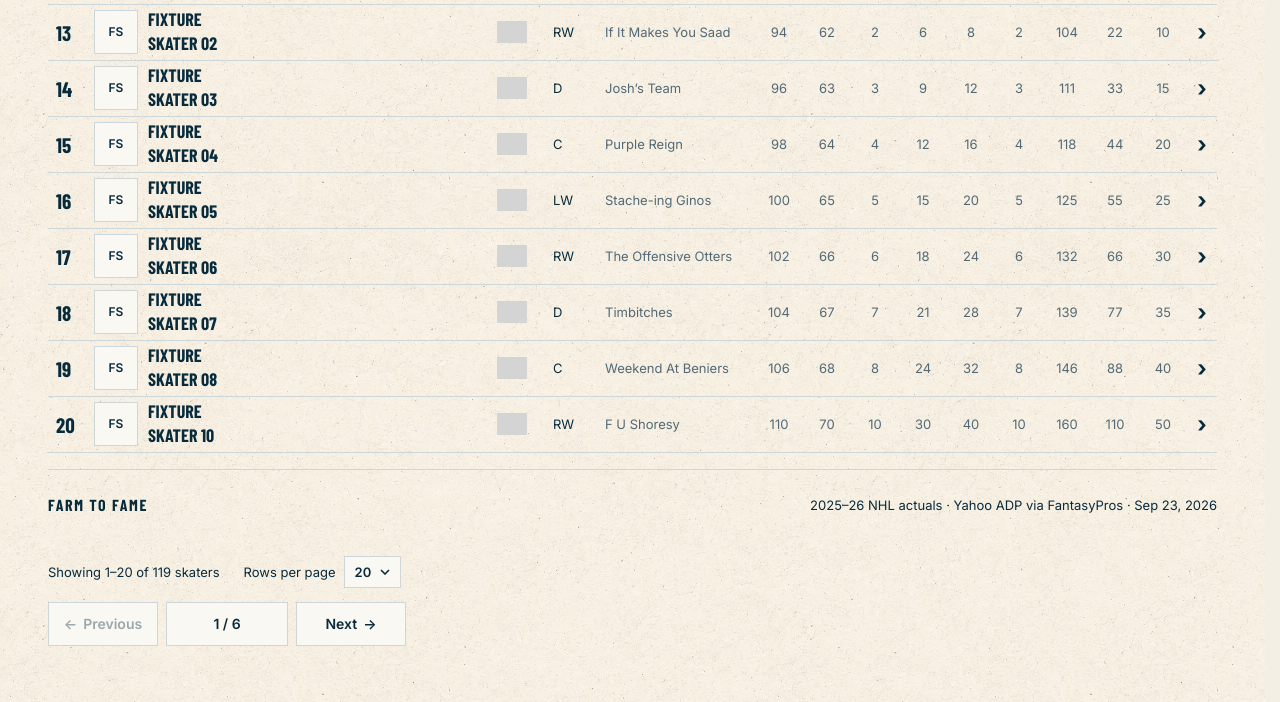
Available Players page › paginates and disables unavailable actions
(page scrolled)
Expected: the button "← Previous" is disabled, x1=48 y1=602 x2=158 y2=646
Click the button "Next →": (351, 624) x1=296 y1=602 x2=406 y2=646
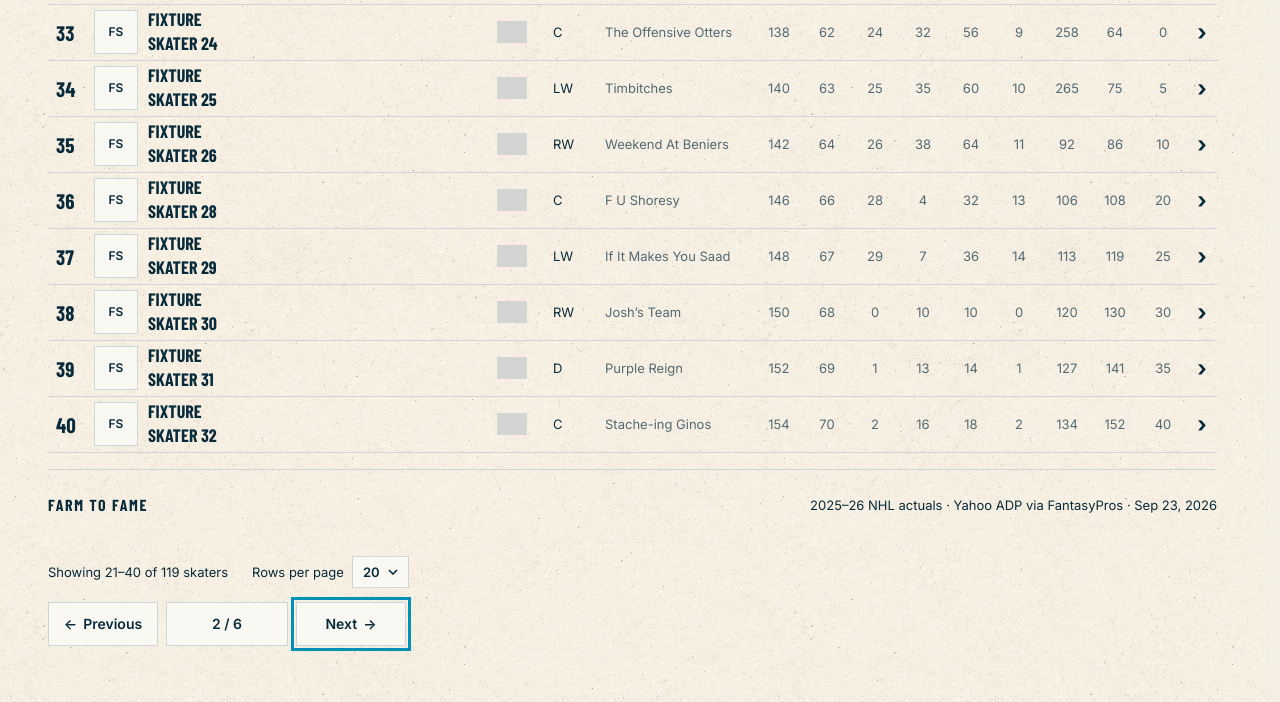
Now the text "Showing 21–40 of 119 skaters" is shown, box x1=48 y1=563 x2=228 y2=581
Click the button "Next →": (351, 624) x1=296 y1=602 x2=406 y2=646
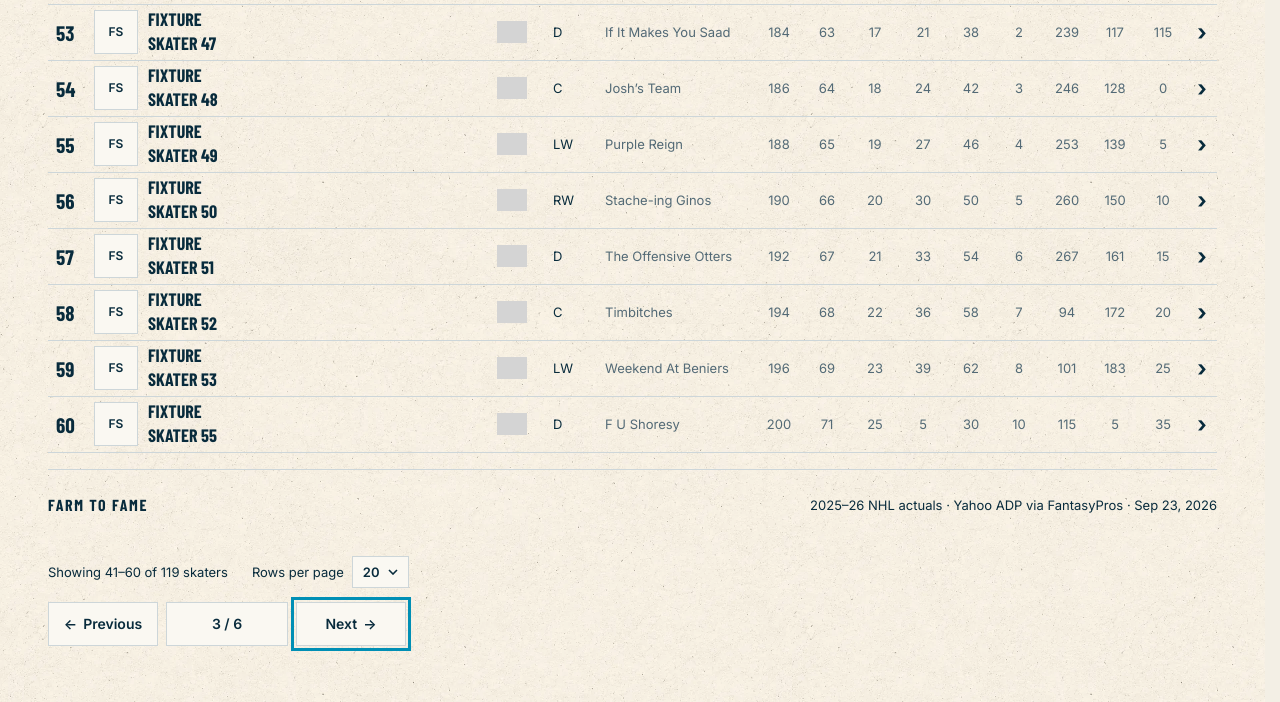
Click the button "Next →": (351, 624) x1=296 y1=602 x2=406 y2=646
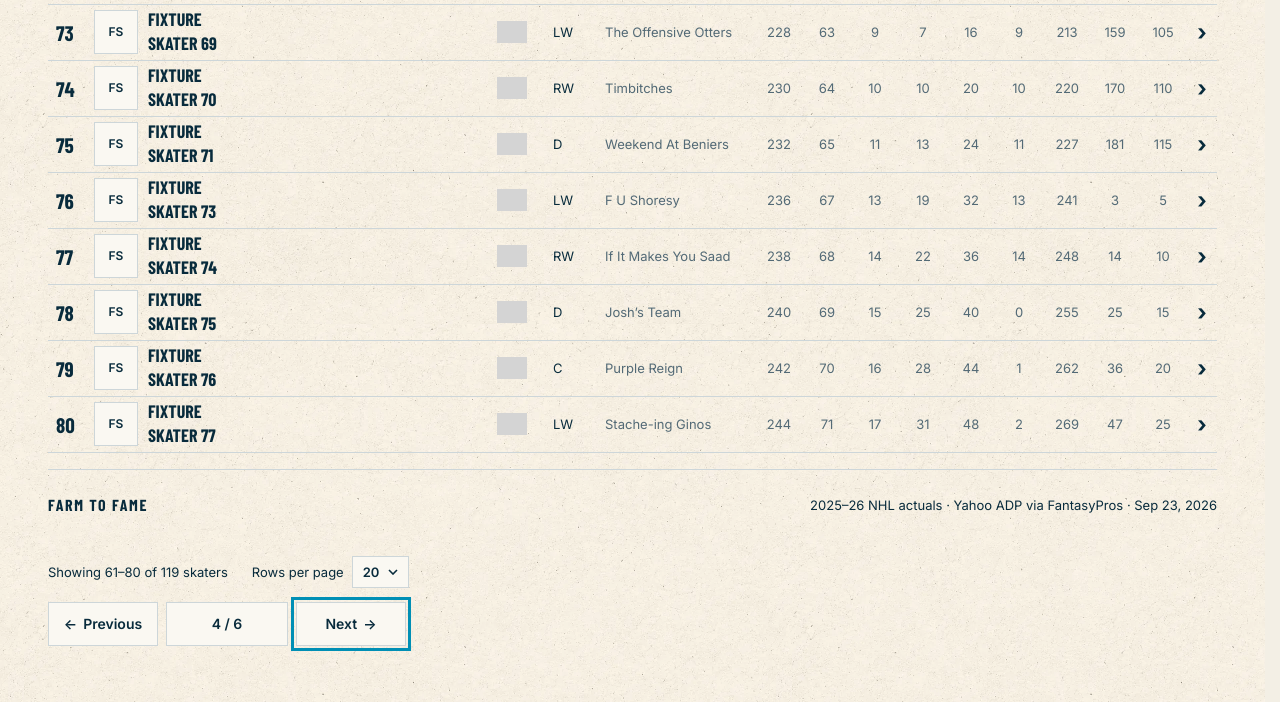
Click the button "Next →": (351, 624) x1=296 y1=602 x2=406 y2=646
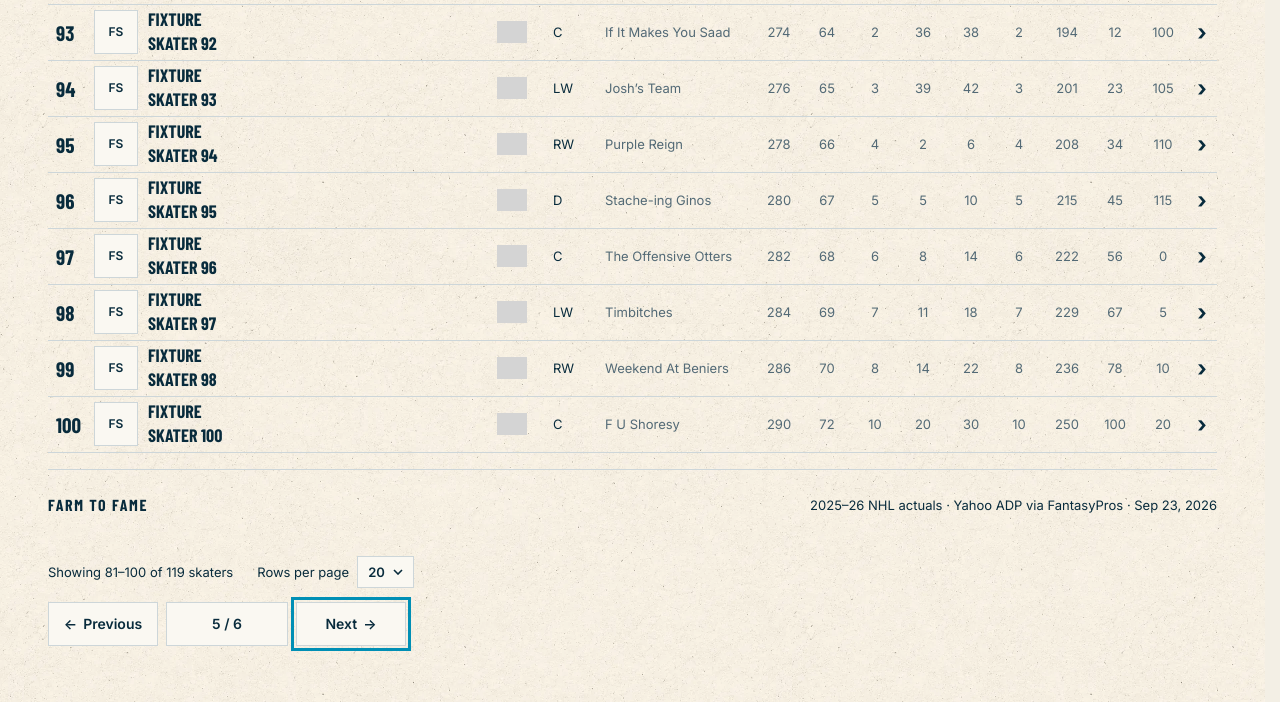
Click the button "Next →": (351, 624) x1=296 y1=602 x2=406 y2=646
(page scrolled)
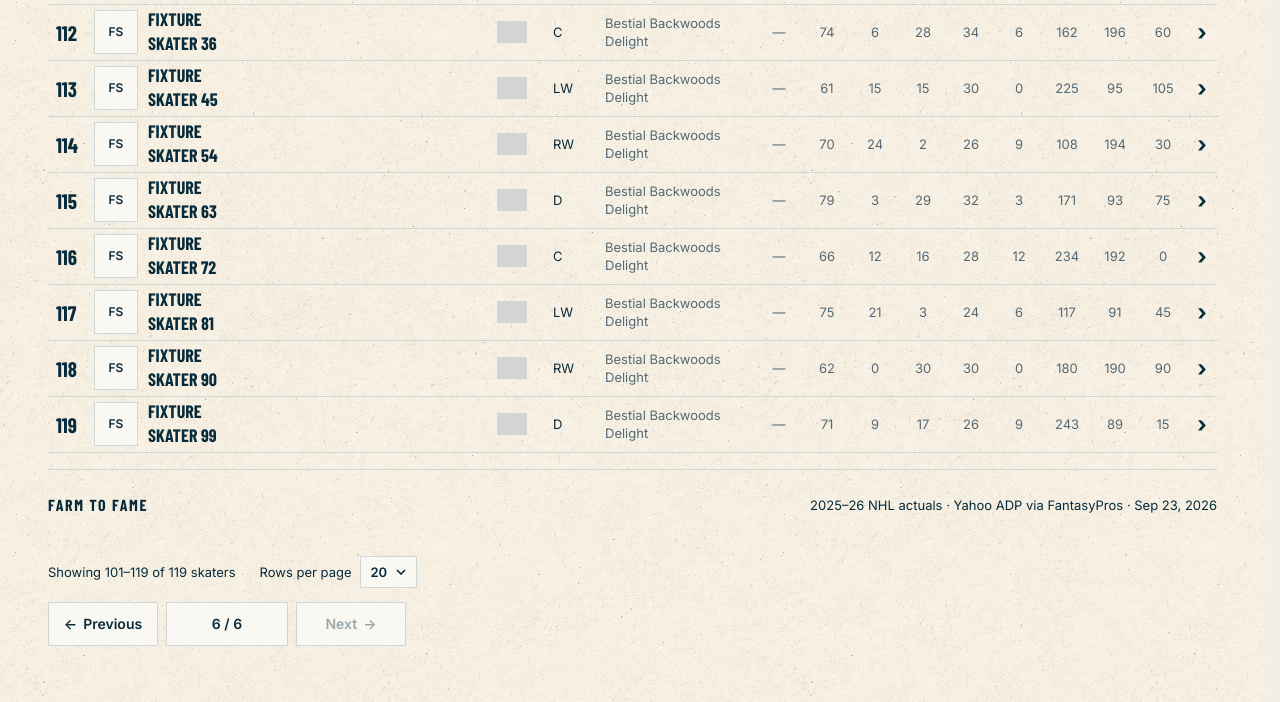
Now the text "Showing 101–119 of 119 skaters" is shown, box x1=48 y1=563 x2=236 y2=581
Now the button "Next →" is disabled, box x1=296 y1=602 x2=406 y2=646
Now the cell "—" in the row of "243" is shown, box x1=772 y1=416 x2=786 y2=432
